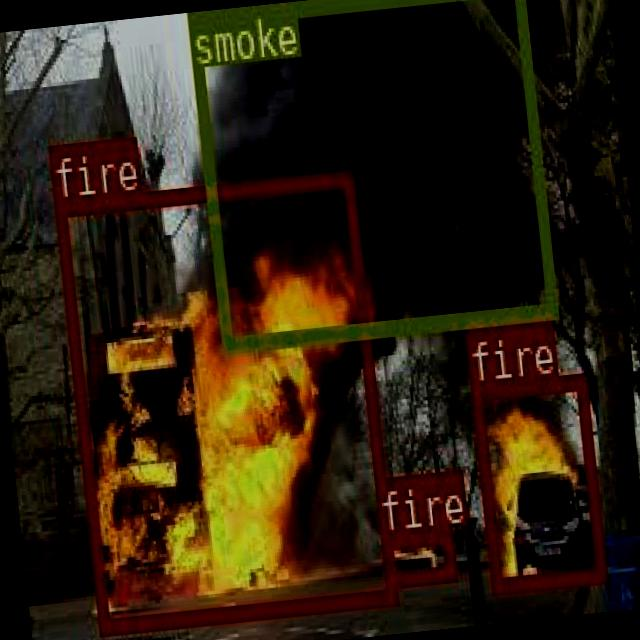fire: (53, 170, 396, 634), (468, 370, 604, 591), (380, 524, 452, 584)
smoke: (184, 0, 555, 351)
